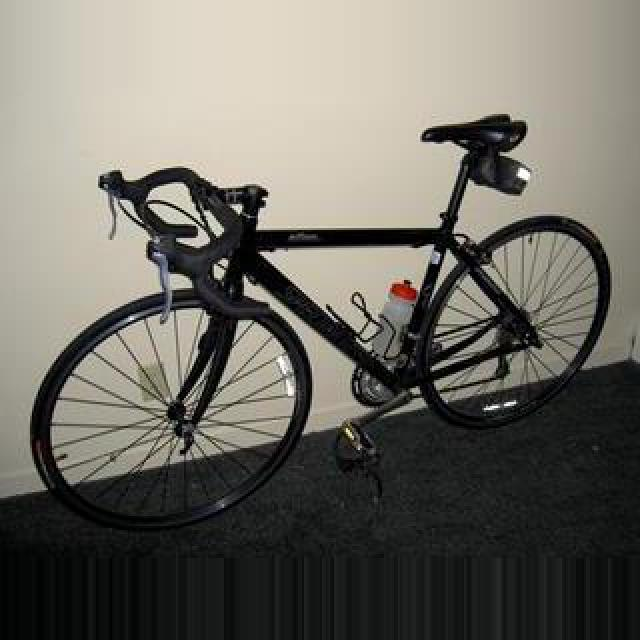Person: (30, 112, 612, 536)
